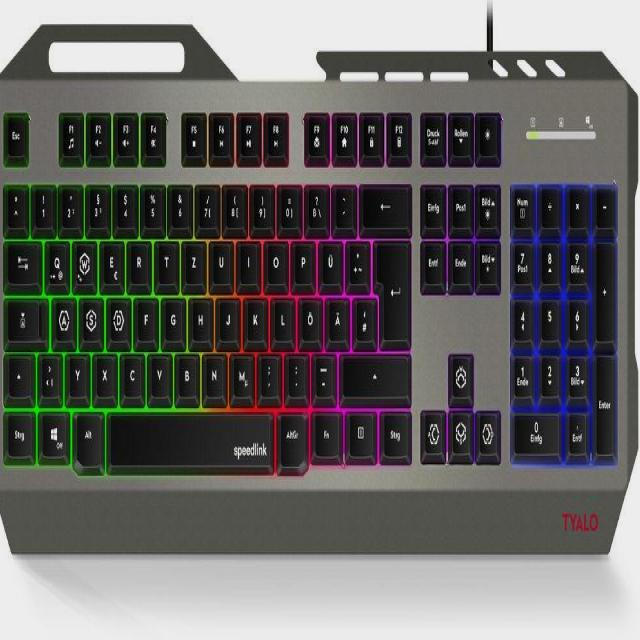0: (276, 179, 298, 227)
1: (31, 179, 53, 227)
2: (59, 179, 79, 227)
3: (85, 179, 108, 229)
4: (113, 179, 135, 225)
5: (140, 179, 162, 227)
6: (167, 177, 189, 227)
7: (195, 178, 218, 228)
8: (222, 179, 244, 229)
9: (250, 179, 272, 227)
a: (50, 291, 74, 343)
accent: (332, 179, 352, 225)
ae: (325, 291, 345, 341)
alt-left: (72, 405, 101, 463)
altgr-right: (277, 405, 304, 463)
b: (174, 347, 196, 395)
c: (119, 349, 141, 395)
caret: (4, 180, 24, 224)
comma: (258, 347, 278, 395)
d: (106, 291, 128, 341)
del: (359, 180, 407, 226)
e: (98, 235, 122, 285)
enter: (370, 233, 407, 339)
f: (134, 293, 154, 339)
g: (161, 293, 181, 339)
h: (187, 291, 209, 339)
hash: (352, 291, 372, 339)
i: (236, 235, 256, 281)
j: (216, 291, 236, 339)
k: (243, 291, 263, 339)
keyboard: (0, 50, 628, 512)
l: (271, 291, 291, 339)
less: (37, 348, 59, 394)
m: (229, 347, 251, 397)
minus: (312, 349, 332, 395)
n: (201, 347, 223, 397)
o: (263, 235, 285, 283)
oe: (298, 291, 318, 341)
p: (290, 235, 312, 281)
plus: (346, 233, 366, 283)
point: (286, 348, 304, 394)
q: (43, 235, 67, 287)
r: (126, 235, 149, 283)
s: (78, 291, 101, 343)
shift-left: (6, 350, 30, 394)
shift-lock: (6, 299, 40, 343)
shift-right: (338, 349, 406, 395)
space: (105, 404, 271, 466)
ss: (304, 179, 326, 227)
strg-left: (3, 405, 32, 455)
strg-right: (379, 405, 407, 455)
t: (153, 235, 175, 281)
tab: (3, 237, 38, 283)
u: (208, 235, 230, 283)
ue: (318, 235, 340, 283)
v: (147, 349, 169, 395)
w: (70, 234, 94, 286)
x: (92, 349, 114, 395)
y: (66, 348, 86, 394)
z: (181, 235, 203, 283)
